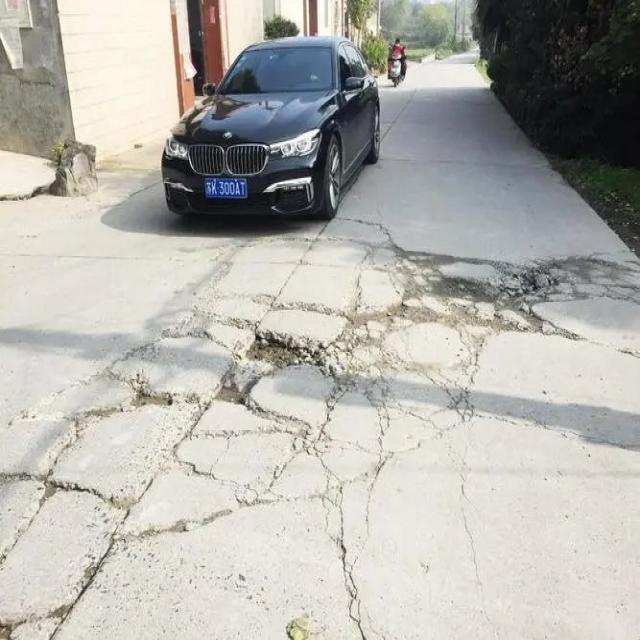Pothole: (386, 248, 604, 344), (231, 326, 330, 396)
